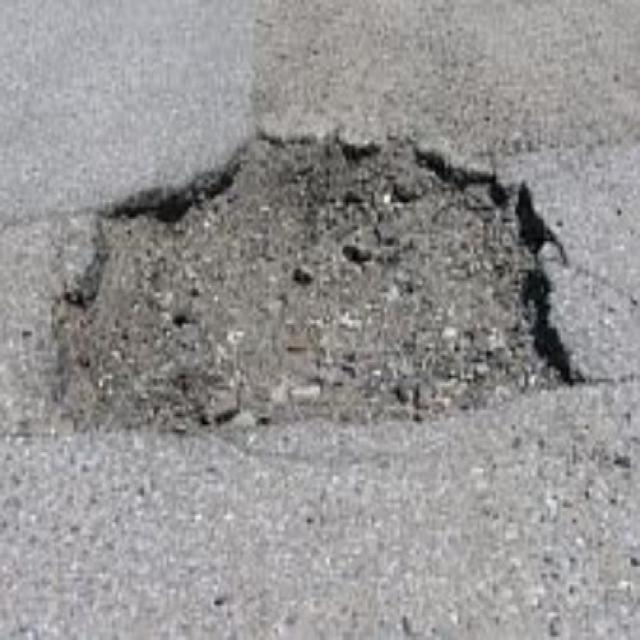Pothole: (41, 120, 588, 441)
